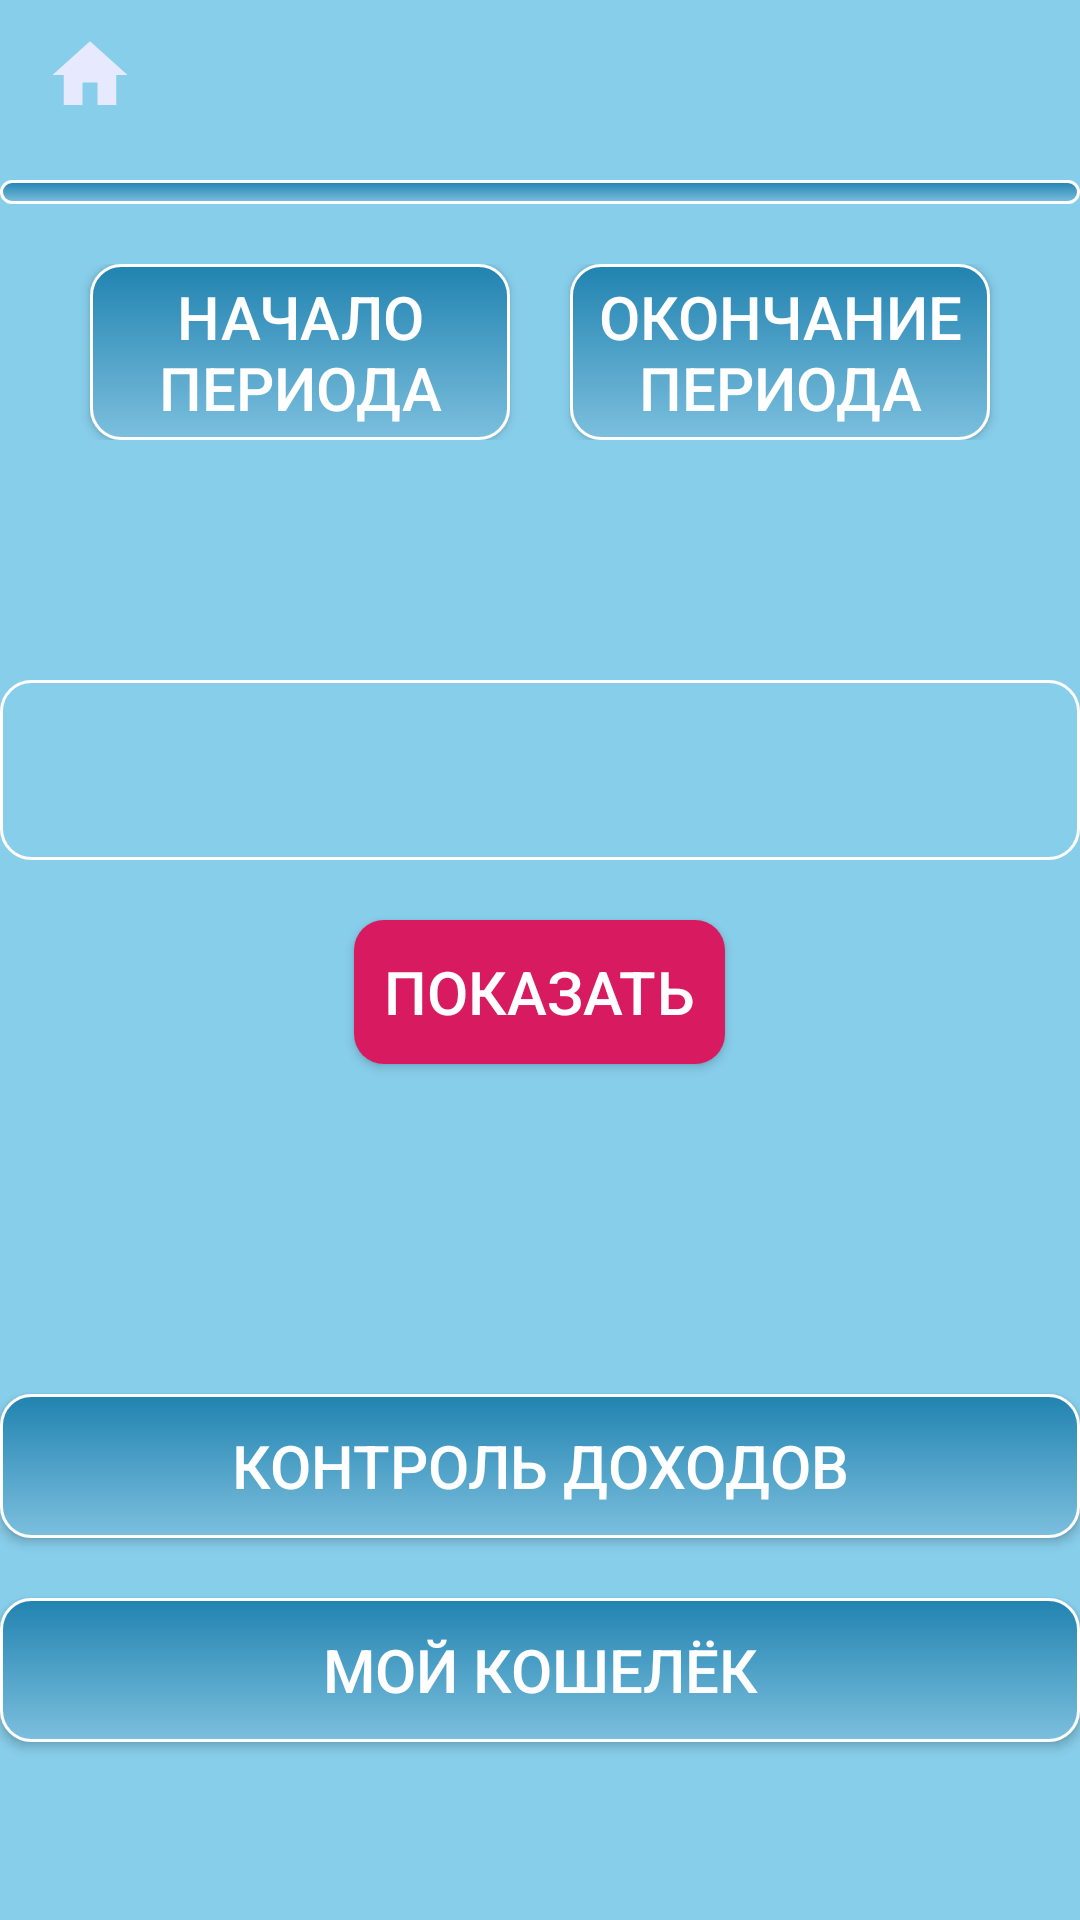

Screen size 1080 × 1920. Icon name, then its box in pixels as (x1=x1, y1=y1, x2=x2, y2=y2):
home: (x1=53, y1=41, x2=127, y2=105)
